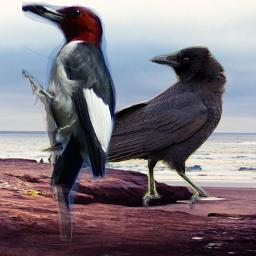Crow: (39, 46, 229, 209)
Woodpecker: (22, 2, 117, 241)
